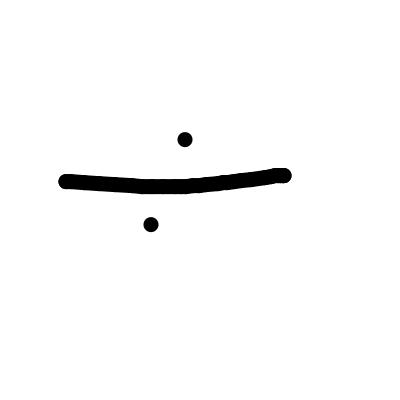div: (53, 119, 292, 236)
